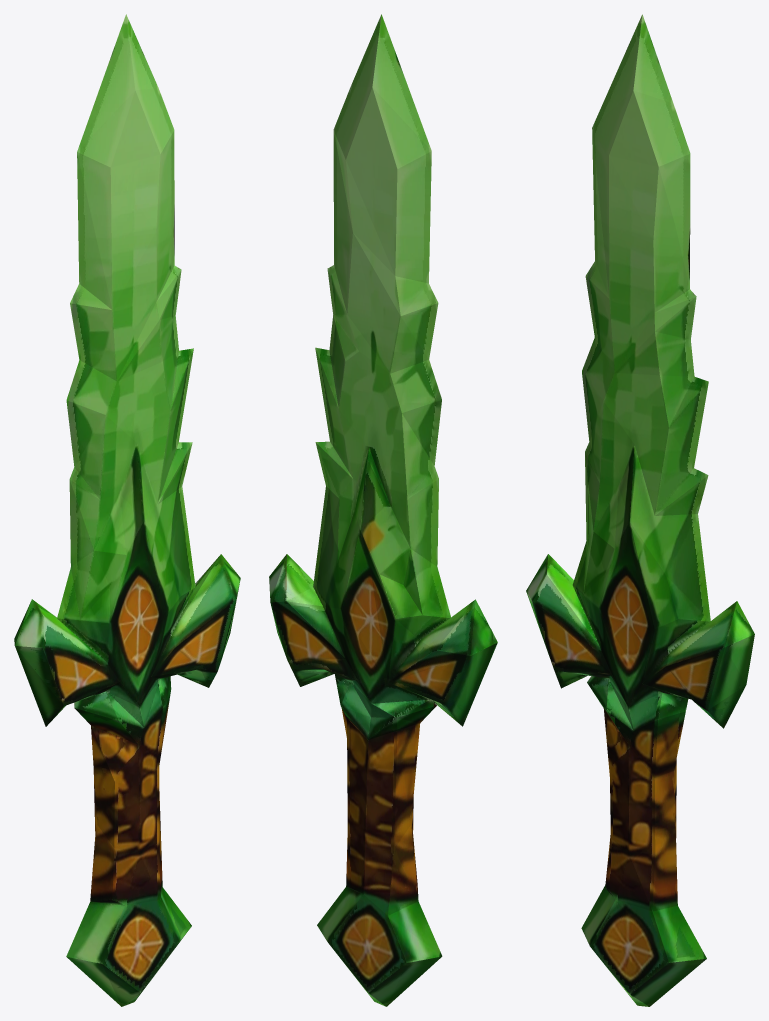
File: green_magic_sword.glb
3 views of the same model, side by side, from view 1: azimuth 30°, elevation 25°; view 2: azimuth 150°, elevation 25°; view 3: azimuth 330°, elevation 25° (orthographic).
Parts seen in each view (by area): view 1: TexturedMesh_.obj; view 2: TexturedMesh_.obj; view 3: TexturedMesh_.obj.
Part boxes in pixels (<box>): TexturedMesh_.obj: <box>14,14,240,1006</box>; TexturedMesh_.obj: <box>269,14,497,1006</box>; TexturedMesh_.obj: <box>526,14,754,1006</box>.
Size of the model in its own units: 0.4753 by 1.98 by 0.109.
Materials: 1 (1 with a texture image).
